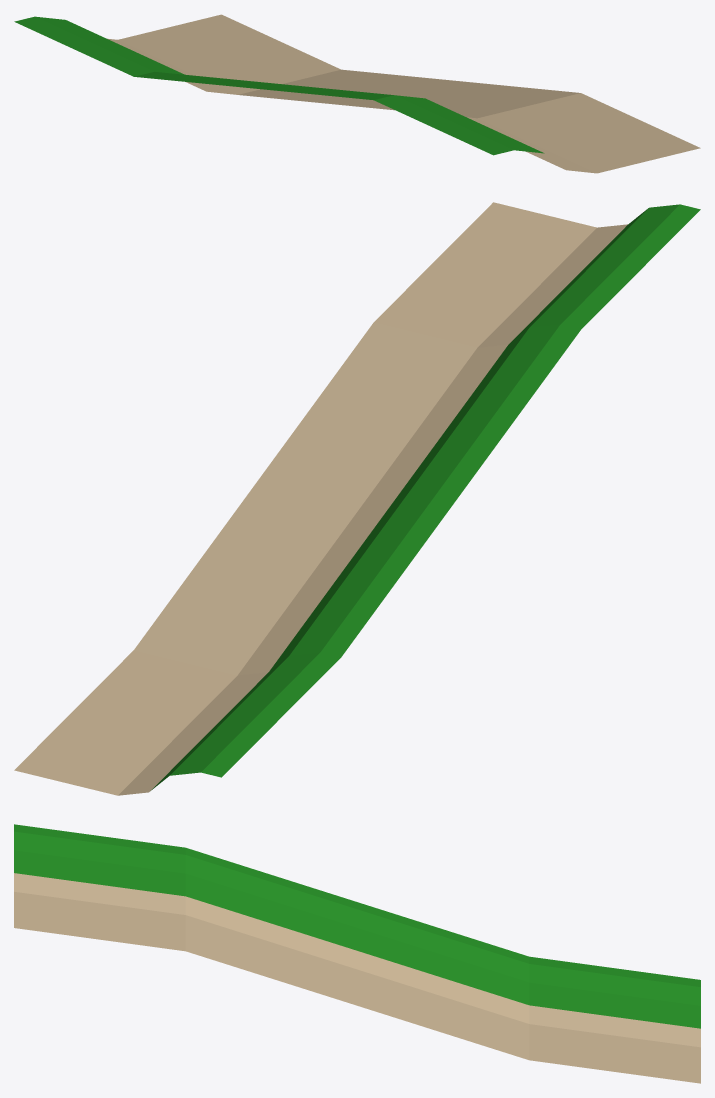
Rendered from Hilly_Terrain_Path_Hill_Gentle_Plain_Side.glb.
3 renders of one model, top to bottom at view 1: azimuth 30°, elevation 25°; view 2: azimuth 150°, elevation 25°; view 3: azimuth 270°, elevation 25°, orthographic. The views are drawn at different scales.
Parts seen in each view (by area): view 1: Hilly_Terrain_Path_Hill_Gentle_Plain_Side; view 2: Hilly_Terrain_Path_Hill_Gentle_Plain_Side; view 3: Hilly_Terrain_Path_Hill_Gentle_Plain_Side.
Part boxes in pixels (x1,y1,x2,y2): Hilly_Terrain_Path_Hill_Gentle_Plain_Side: [14, 14, 700, 173]; Hilly_Terrain_Path_Hill_Gentle_Plain_Side: [14, 202, 700, 795]; Hilly_Terrain_Path_Hill_Gentle_Plain_Side: [14, 824, 700, 1083].
Bounding box in the file's own units: 1 × 1.2 × 4.
